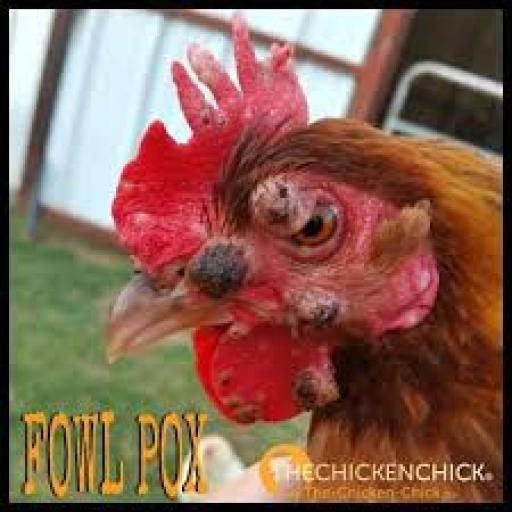disease: (149, 34, 310, 128), (163, 208, 263, 310), (242, 161, 327, 236), (208, 364, 279, 442), (296, 354, 352, 423), (297, 272, 351, 337), (211, 314, 262, 346)
